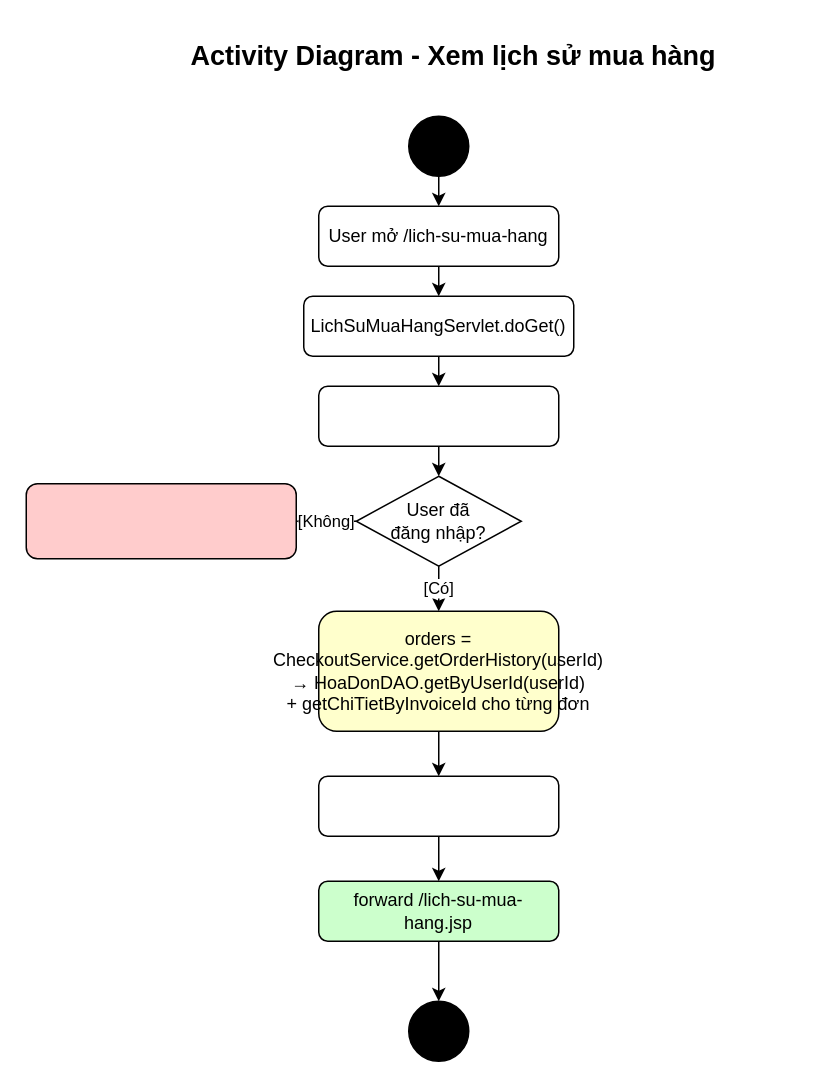
This 818x1088 diagram has some shape labels left out. Each missing label, with the box of its shape:
Set attribute: orders, highlightOrderId: (317, 775, 559, 836)
Set error "Vui lòng đăng nhập" redirect → /login: (25, 482, 296, 559)
user = session.getAttribute(LOGIN_USER): (317, 385, 559, 446)
